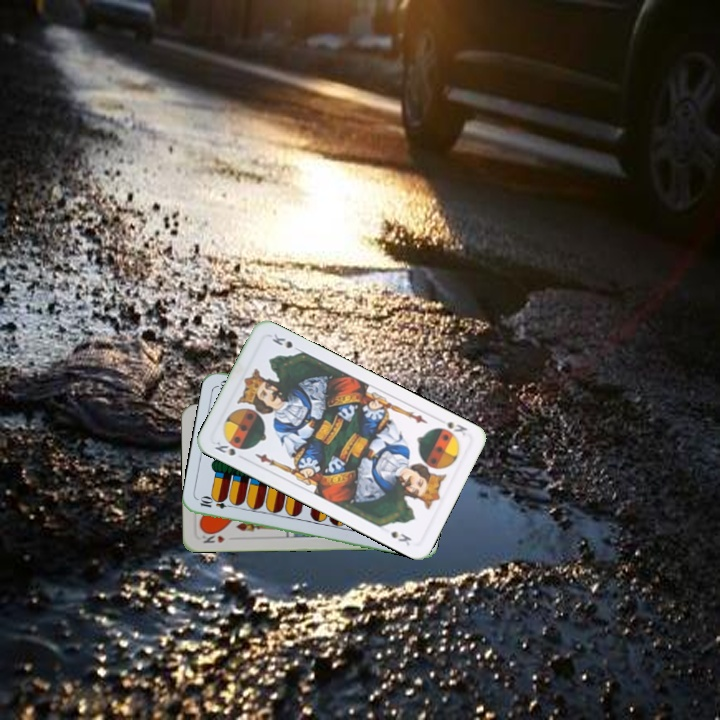E10: (196, 494, 237, 512)
HK: (198, 528, 227, 546)
SK: (210, 437, 238, 458), (443, 417, 470, 438)
